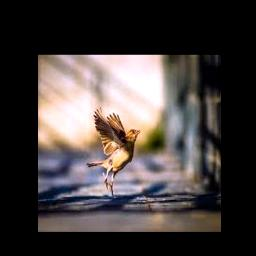Sparrow: (87, 107, 141, 198)
